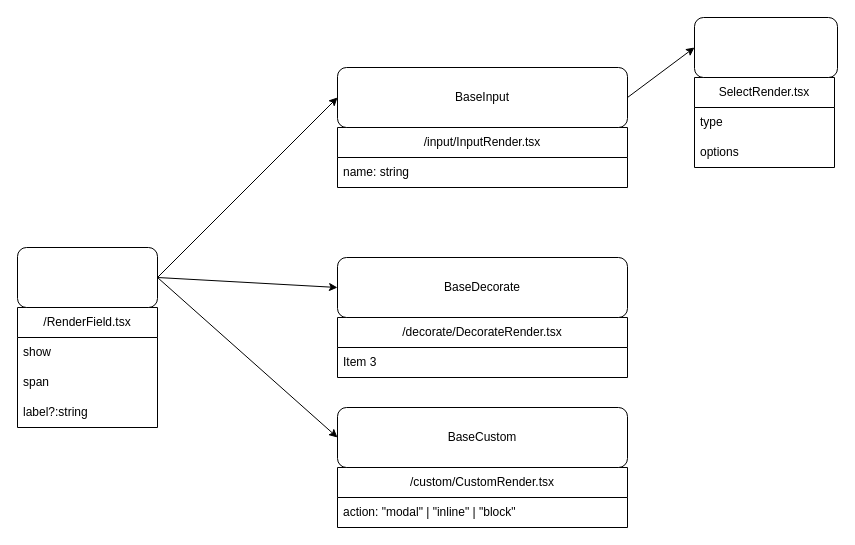
The diagram is 855 pixels wide and 545 high, and some of its shapes have lost their labels. The shapes that lost their labels are listed below. From the top down, each one's centre as x and y in pixels, then its label:
At point (766, 47): "SelectProps".
At point (87, 277): "BaseField".
